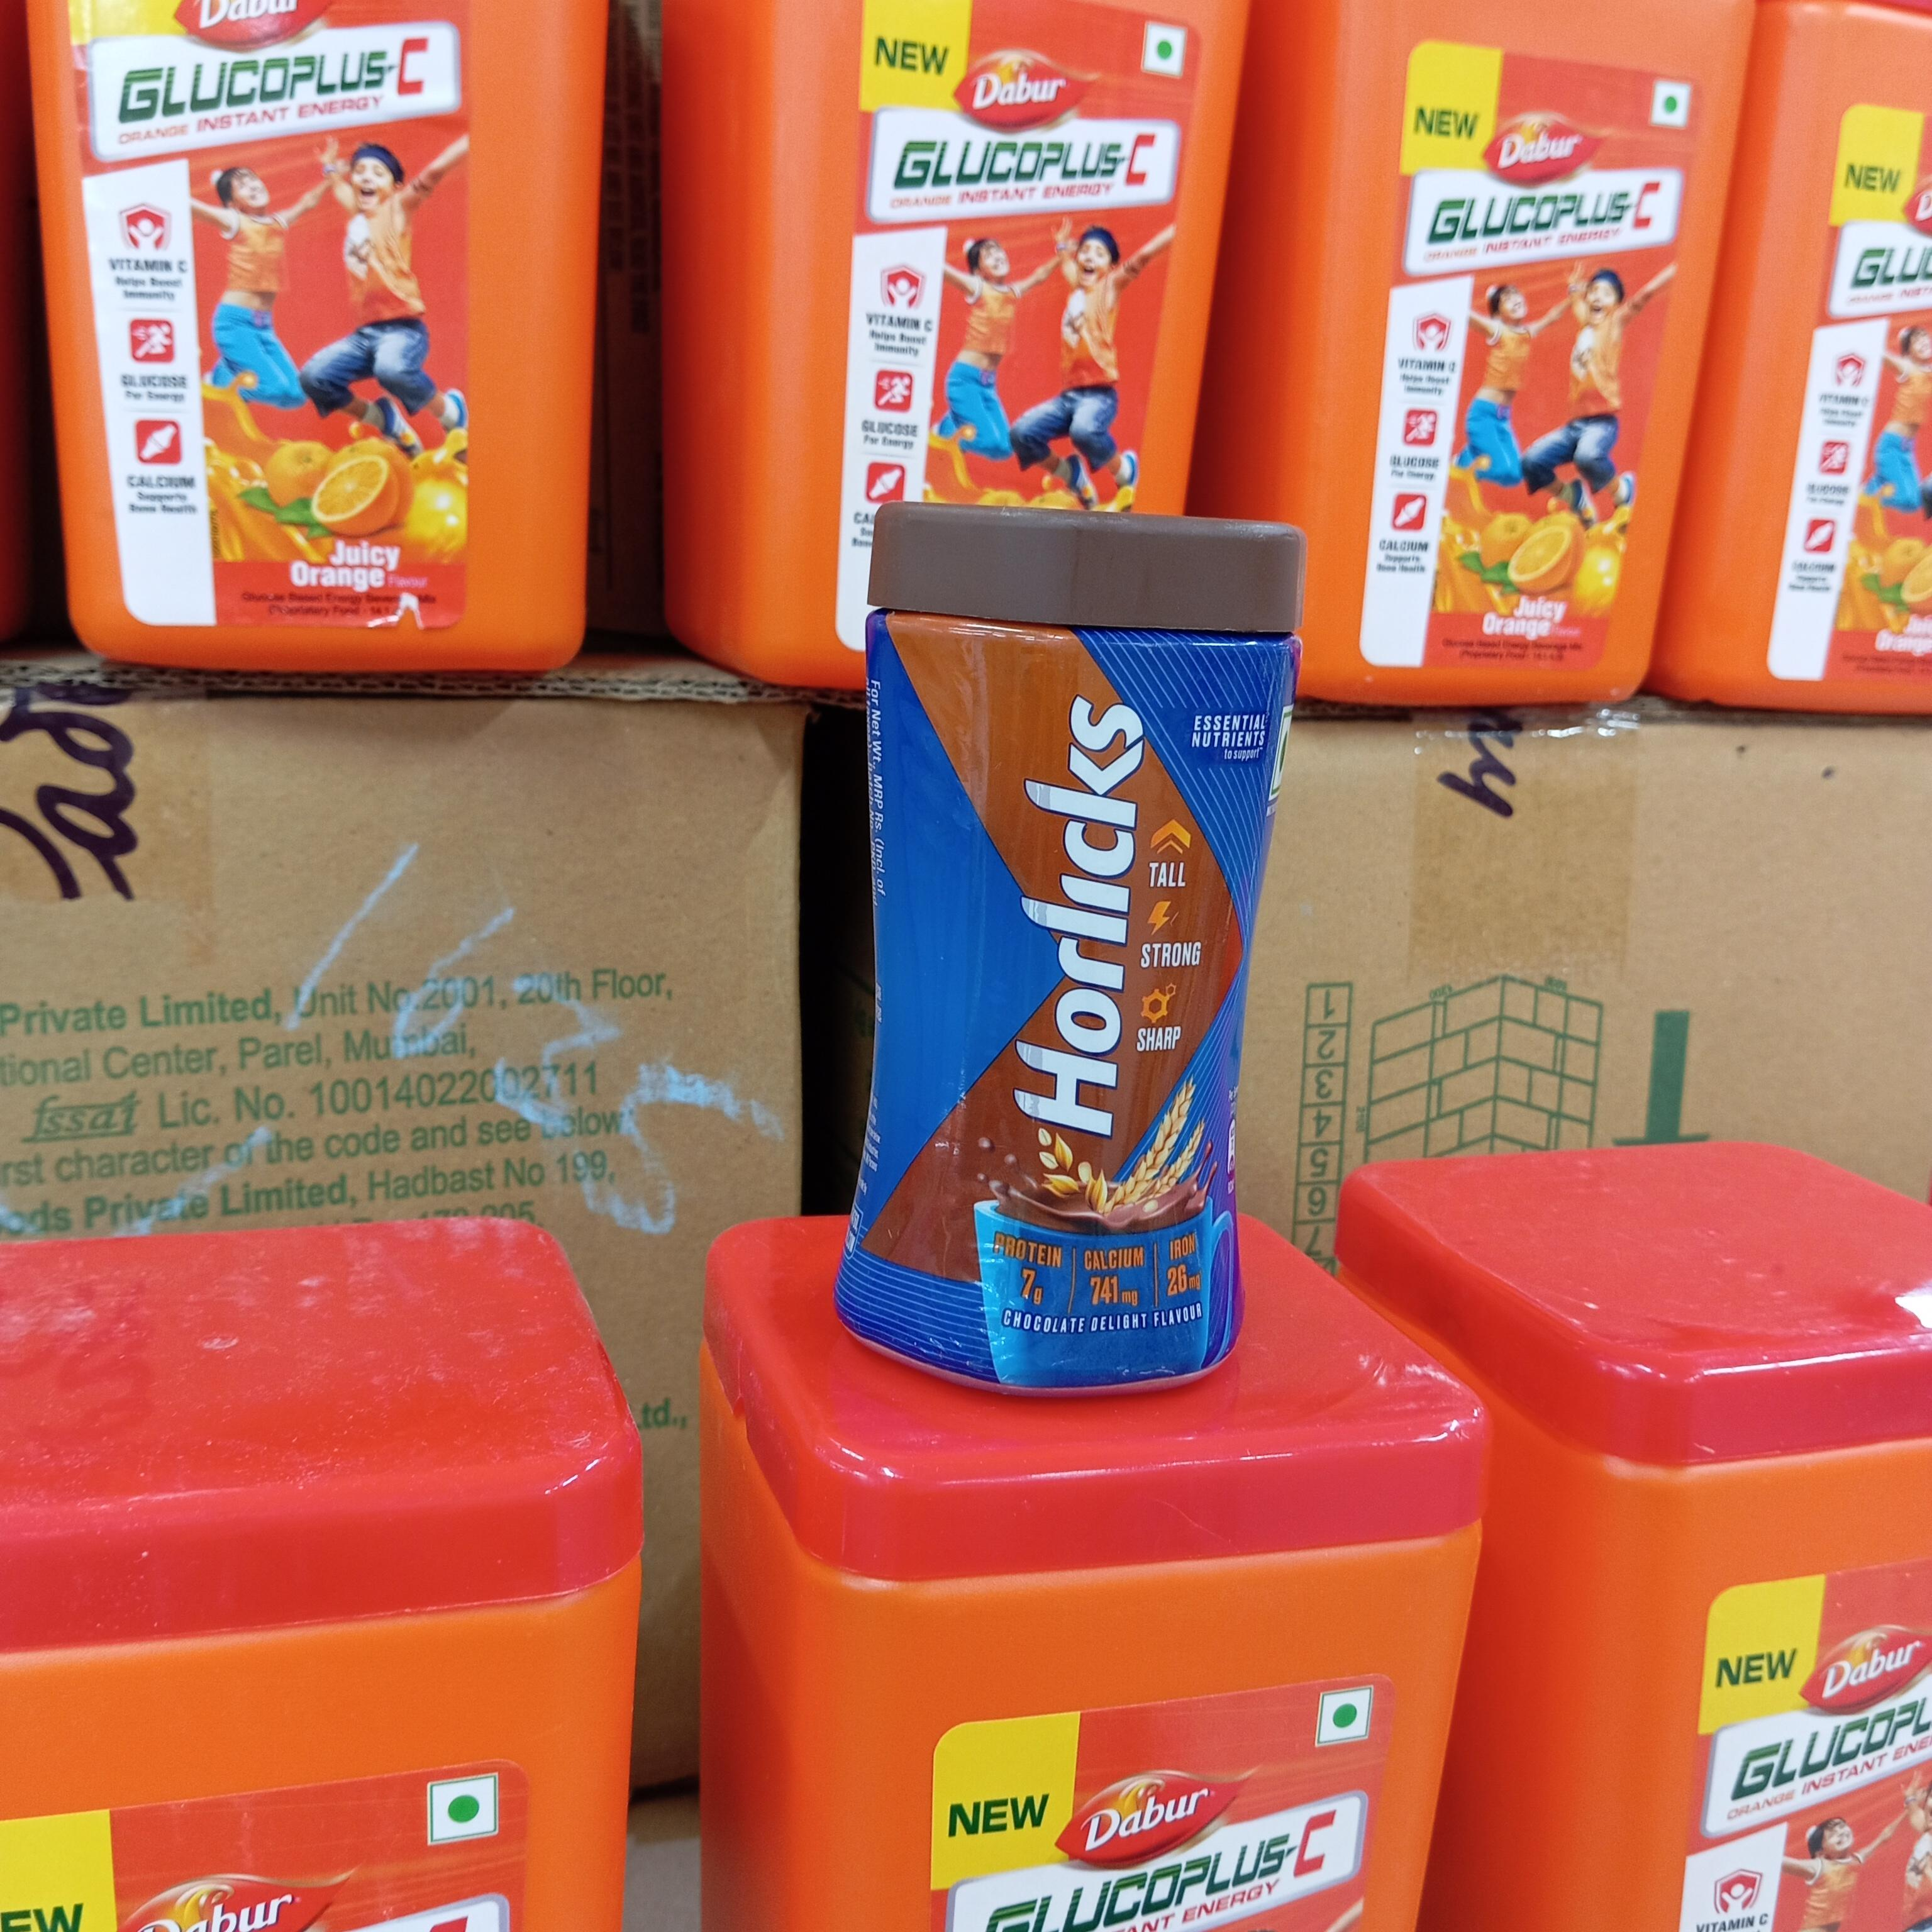HORLICK_CHOCOLATE_200_G_JAR: (869, 481, 1258, 1382)
